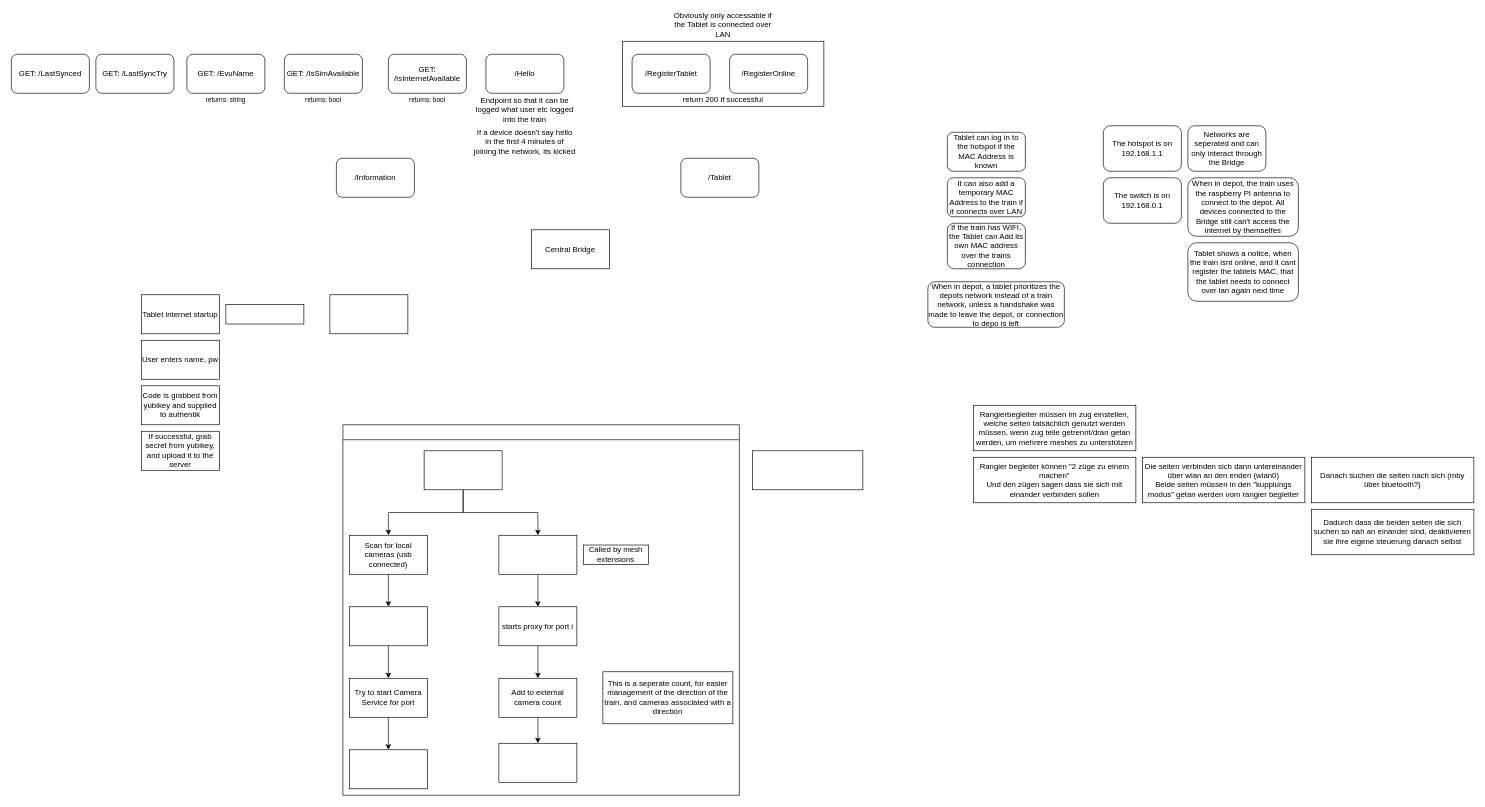
This 1485x807 diagram has some shape labels left out. The shapes that lost their labels are listed below. From the top down, each one's box as (x1, y1, x2, y2) in pixels, then its label:
(225, 304, 304, 324): To register a yubikey
(423, 450, 502, 490): Initialize
(752, 450, 863, 490): /camera/{sideIndex}/startStream
(498, 535, 577, 574): POST /camera/addextcamera
(349, 606, 427, 646): Startup proxy for port i
(342, 424, 739, 795): Camera Setup Flow
(349, 749, 427, 789): Add to camera count
(498, 743, 577, 782): Returns port i
